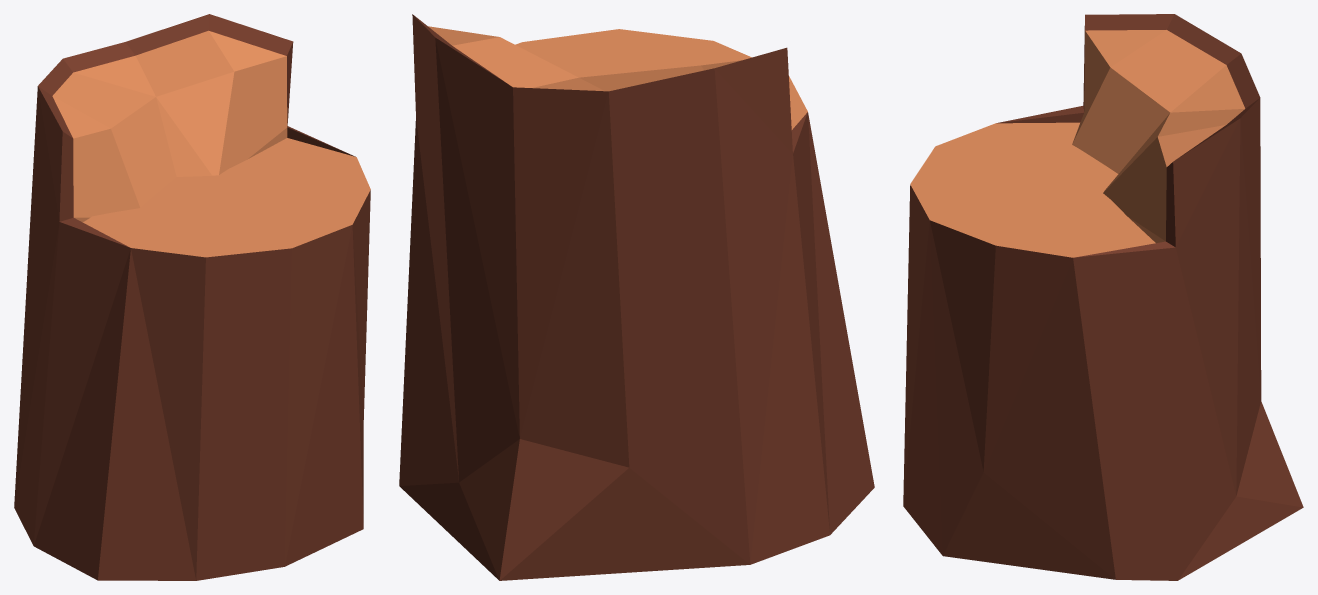
The model's file is pine_trunk_type_5_LOD1.fbx.
3 views of the same model, side by side, from view 1: azimuth 30°, elevation 25°; view 2: azimuth 150°, elevation 25°; view 3: azimuth 270°, elevation 25° (orthographic). The views are drawn at different scales.
Parts seen in each view (by area): view 1: Cylinder.002; view 2: Cylinder.002; view 3: Cylinder.002.
Part boxes in pixels (box(x1,y1,x2,y2)): Cylinder.002: box(14, 14, 370, 580); Cylinder.002: box(399, 14, 874, 580); Cylinder.002: box(903, 14, 1303, 580).
Bounding box in the file's own units: 218 × 263 × 221.
